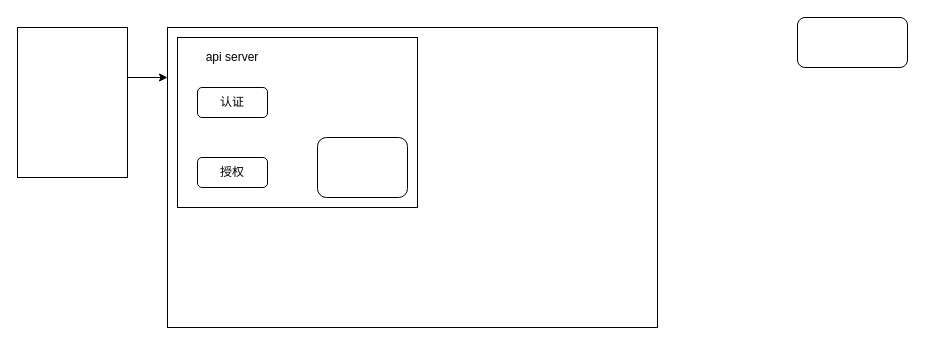
Image size: 925x345. Some labels were removed from this diagram. Each missing label, with the box of its shape:
准入控制: (316, 136, 408, 198)
客户端 （kubectl）: (16, 26, 128, 178)
